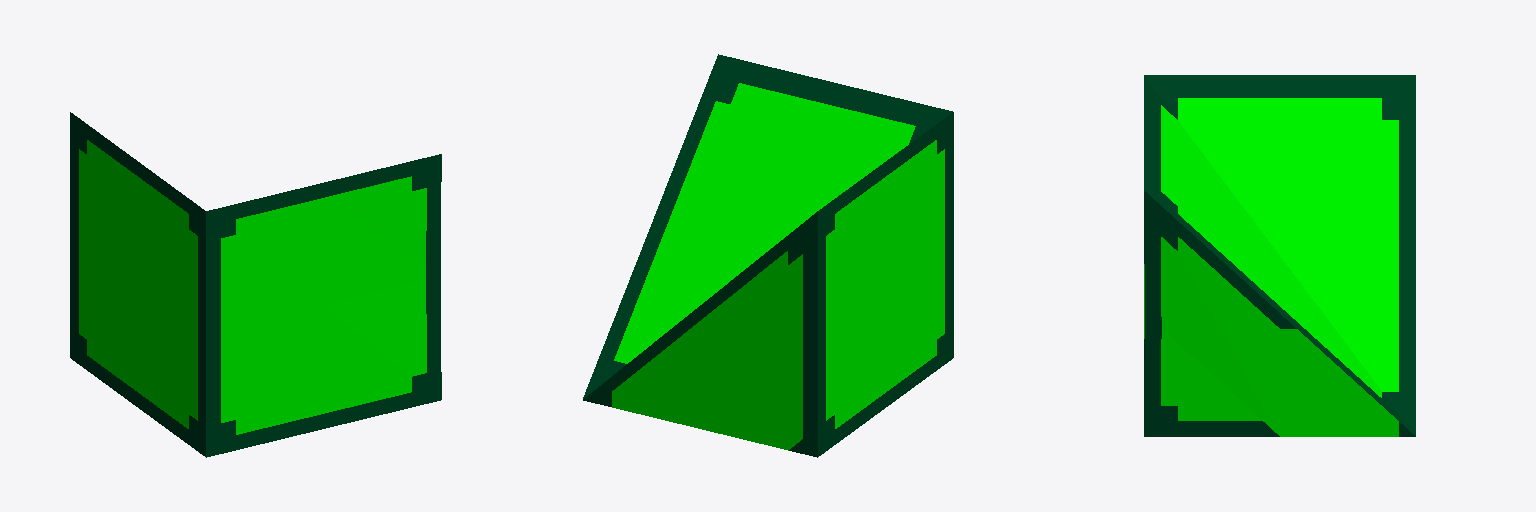
3 views of the same model, side by side, from view 1: azimuth 30°, elevation 25°; view 2: azimuth 150°, elevation 25°; view 3: azimuth 270°, elevation 25° (orthographic).
Parts seen in each view (by area): view 1: 6_green; view 2: 6_green; view 3: 6_green.
Part boxes in pixels (x1,y1,x2,y2): 6_green: (70, 112, 441, 457); 6_green: (583, 54, 953, 457); 6_green: (1144, 75, 1415, 436).
Size of the model in its own units: 1 by 1 by 1.
1 materials, 1 textured.